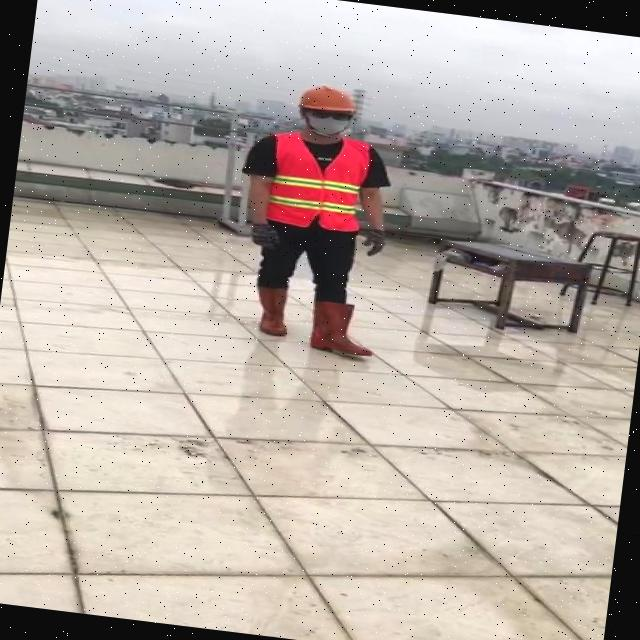boots: (310, 301, 384, 358), (247, 282, 292, 334)
